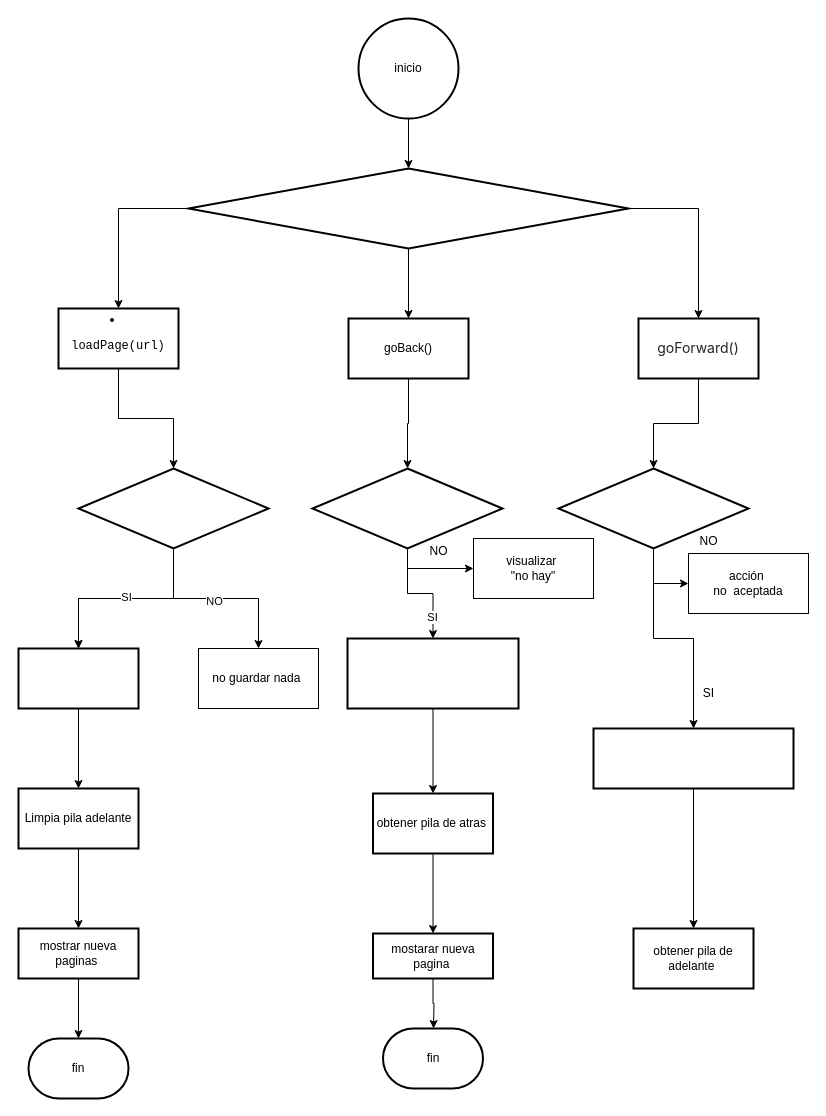
Image size: 826x1116. Some labels were removed from this diagram. The shapes that lost their labels are listed below. From the top down, each one's box as (x1, y1, x2, y2) in pixels, then its label:
(187, 167, 629, 249): ¿Que acción quiere hacer el ususario?
(77, 467, 269, 549): ¡hay pagina actual?
(311, 467, 503, 549): ¿hay paginas atras?
(557, 467, 749, 549): ¿hay paginas adelante?
(17, 647, 139, 709): guardar en lapila de atras
(346, 637, 519, 709): guardar pagina actual en la pila de adelante
(592, 727, 794, 789): guardar pagina actual en la pila de atras
